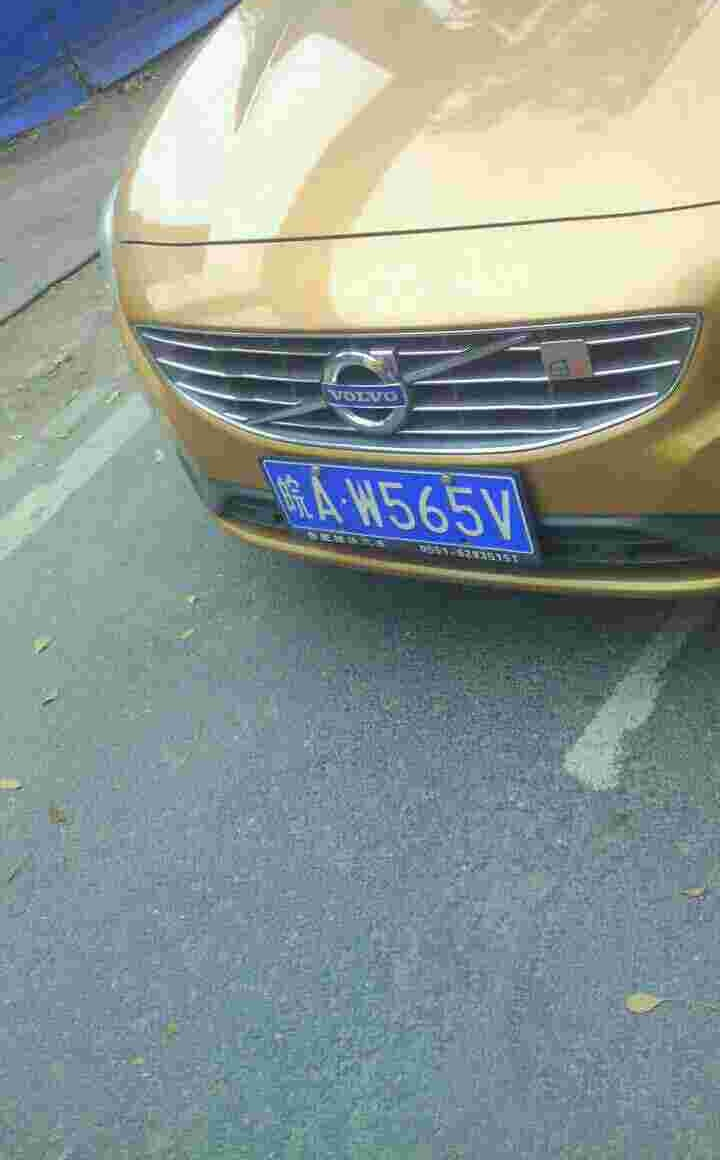license_plate: (247, 448, 522, 558)
